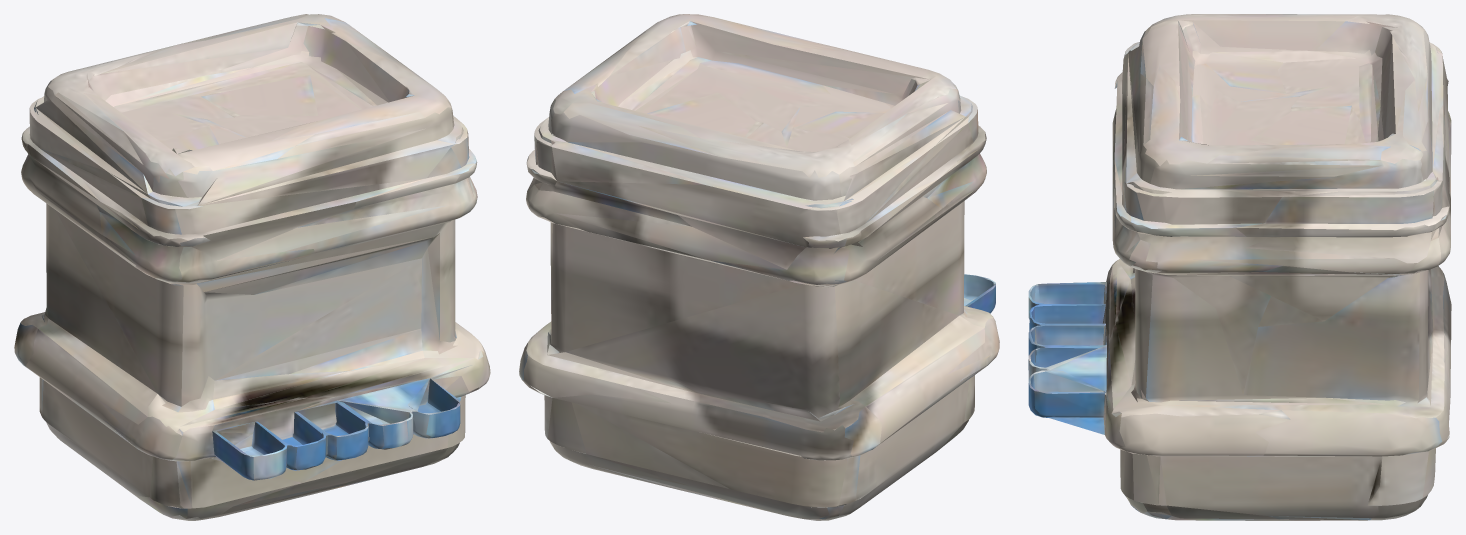
The model's file is bina-mavi.glb.
3 views of the same model, side by side, from view 1: azimuth 30°, elevation 25°; view 2: azimuth 150°, elevation 25°; view 3: azimuth 270°, elevation 25° (orthographic). The views are drawn at different scales.
Bounding box in the file's own units: 1.86 × 1.84 × 1.9.
1 material, 1 textured.
